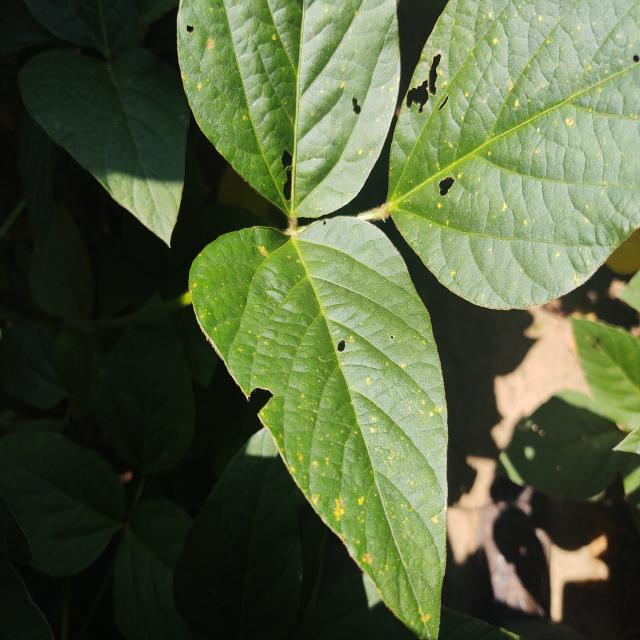Soybean: (0, 0, 640, 640)
downey_mildew: (363, 420, 438, 557), (512, 410, 614, 487), (370, 365, 439, 454), (338, 88, 398, 182), (299, 378, 354, 460), (196, 269, 244, 333), (322, 308, 349, 366), (333, 502, 345, 521), (362, 553, 373, 564), (258, 245, 268, 257), (565, 117, 574, 127), (357, 496, 364, 506), (514, 99, 520, 109), (297, 453, 303, 462), (366, 377, 372, 386), (501, 203, 507, 212), (492, 38, 499, 45), (574, 274, 580, 282), (289, 466, 295, 473), (192, 281, 198, 288), (534, 147, 540, 154), (457, 173, 462, 181), (488, 11, 493, 19), (602, 180, 608, 186), (340, 81, 345, 88), (197, 83, 202, 90), (437, 202, 442, 209), (272, 34, 277, 41), (243, 115, 248, 121), (451, 270, 456, 276), (540, 82, 545, 88), (584, 217, 589, 223), (555, 252, 560, 258), (523, 219, 527, 226), (358, 149, 362, 155), (465, 92, 469, 98), (488, 247, 492, 253), (487, 151, 491, 156), (446, 220, 449, 226)
